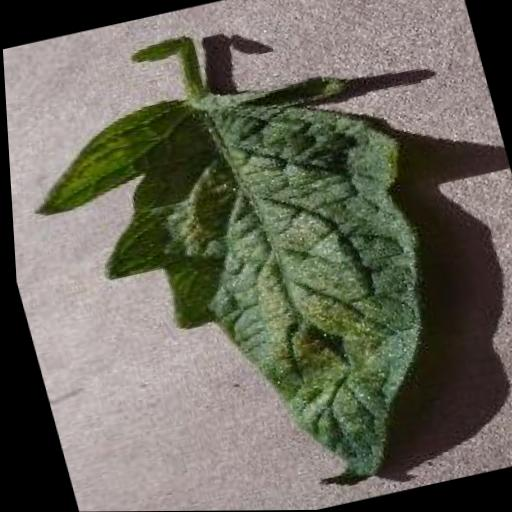Spider Mites: (6, 52, 477, 512)
